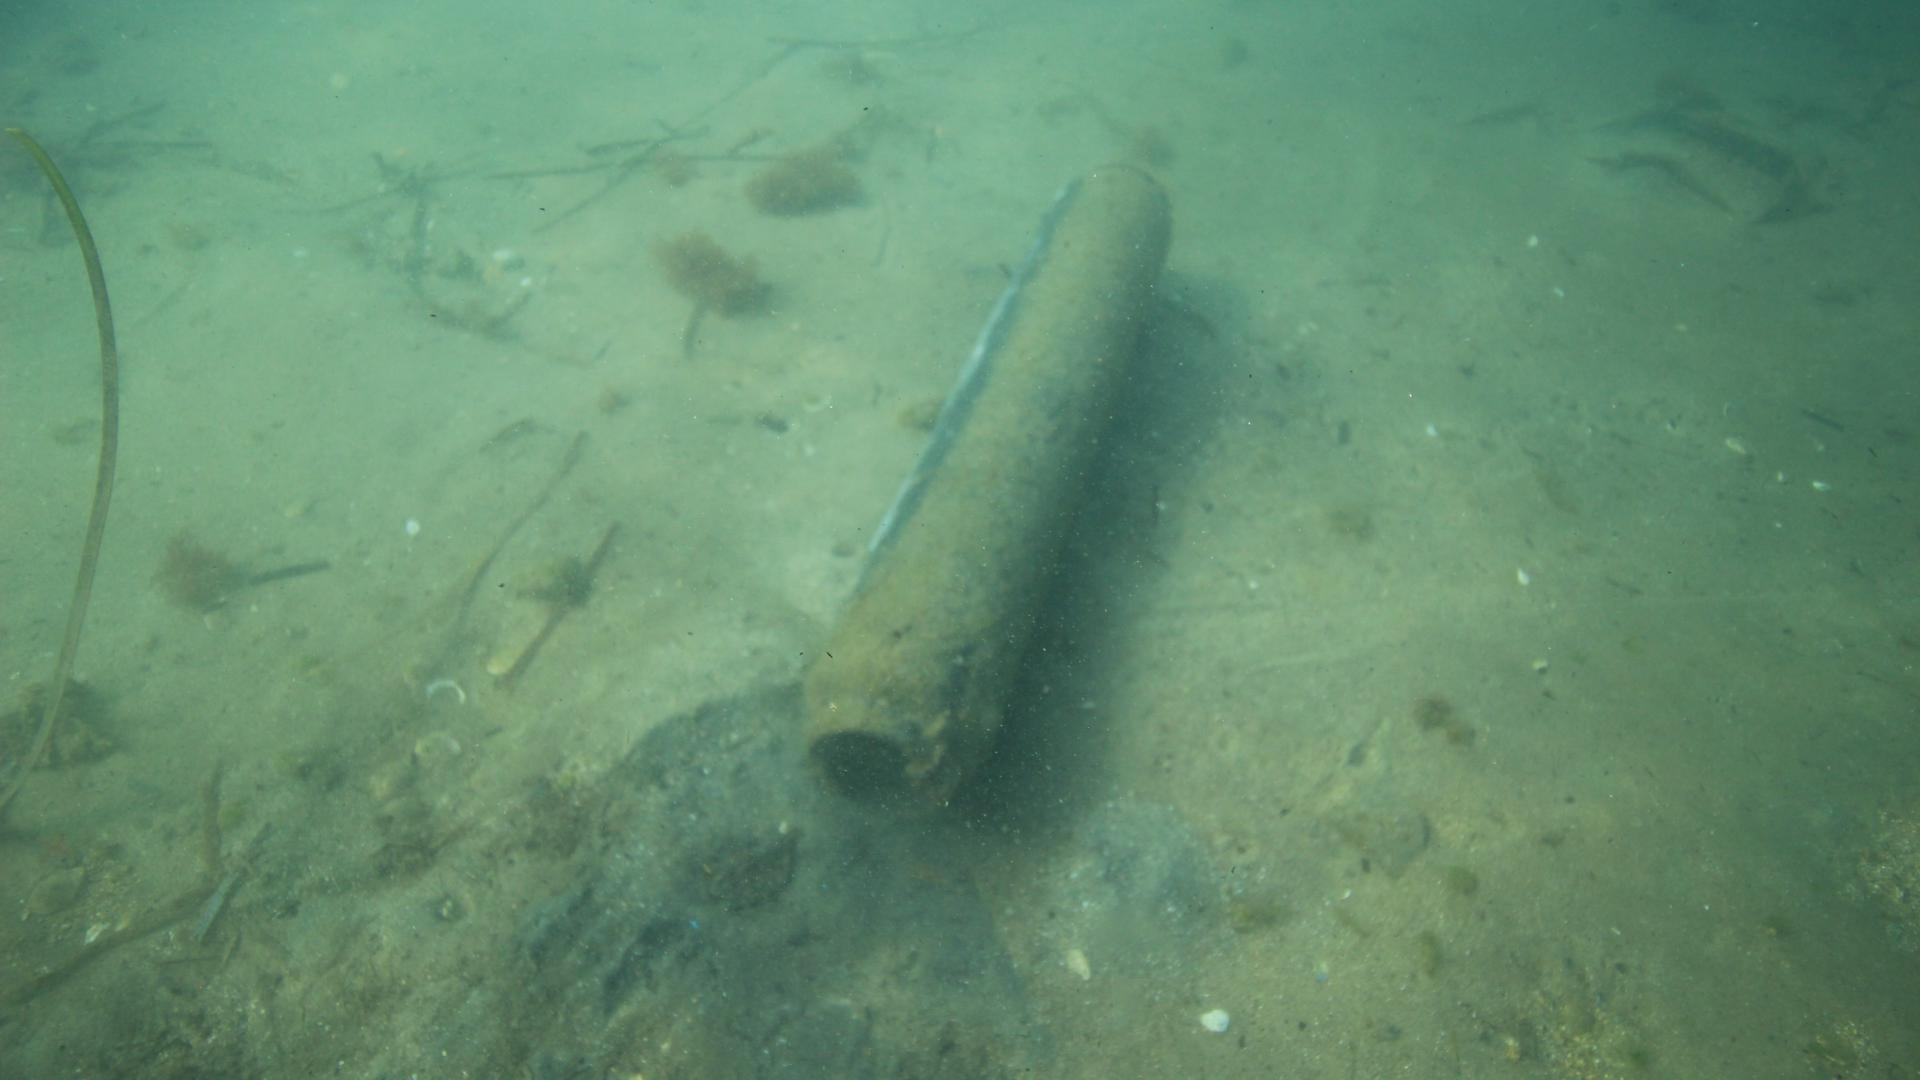eel fish trap: (798, 158, 1170, 825)
